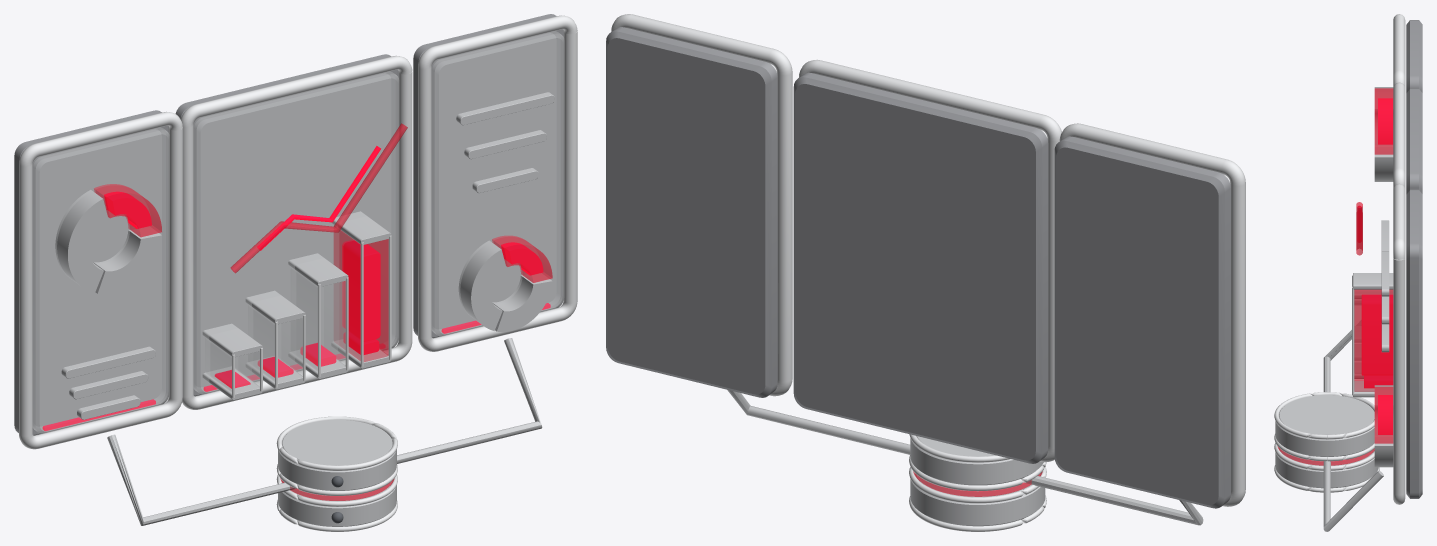
The model's file is 50-data-analysis.glb.
3 renders of one model, left to right at view 1: azimuth 30°, elevation 25°; view 2: azimuth 150°, elevation 25°; view 3: azimuth 270°, elevation 25°, orthographic. The views are drawn at different scales.
Visible parts, largest first — view 1: BC clear optical glass, BC brushed iron, BC polished iron bevel, BC satin iron, BC ruby optical glass, BC internal ruby light; view 2: BC brushed iron, BC polished iron bevel, BC satin iron; view 3: BC satin iron, BC polished iron bevel, BC brushed iron, BC ruby optical glass, BC internal ruby light, BC clear optical glass.
Boxes of the visible parts, x1,y1,x2,y2 form: BC clear optical glass: [32, 31, 564, 433]; BC brushed iron: [14, 14, 563, 435]; BC polished iron bevel: [19, 15, 577, 531]; BC satin iron: [55, 92, 554, 526]; BC ruby optical glass: [94, 123, 552, 500]; BC internal ruby light: [42, 146, 550, 431]; BC brushed iron: [606, 27, 1230, 508]; BC polished iron bevel: [611, 14, 1245, 531]; BC satin iron: [727, 389, 1203, 526]; BC satin iron: [1275, 87, 1393, 531]; BC polished iron bevel: [1274, 14, 1405, 504]; BC brushed iron: [1406, 20, 1422, 498]; BC ruby optical glass: [1277, 88, 1393, 465]; BC internal ruby light: [1357, 98, 1393, 434]; BC clear optical glass: [1355, 299, 1360, 361].
Bounding box in the file's own units: 2.6 × 1.76 × 0.6874.
